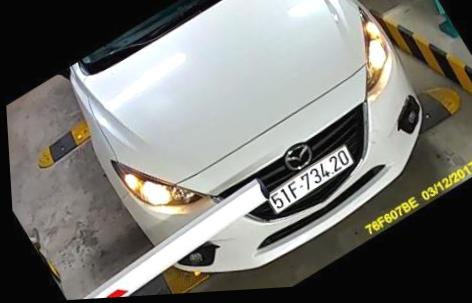License_Plate: (260, 150, 355, 216)
